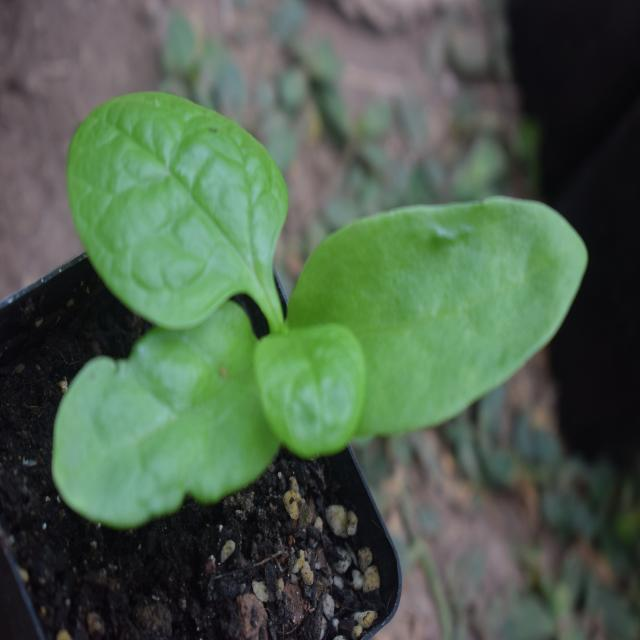Ceylon spinach: (49, 60, 574, 510)
